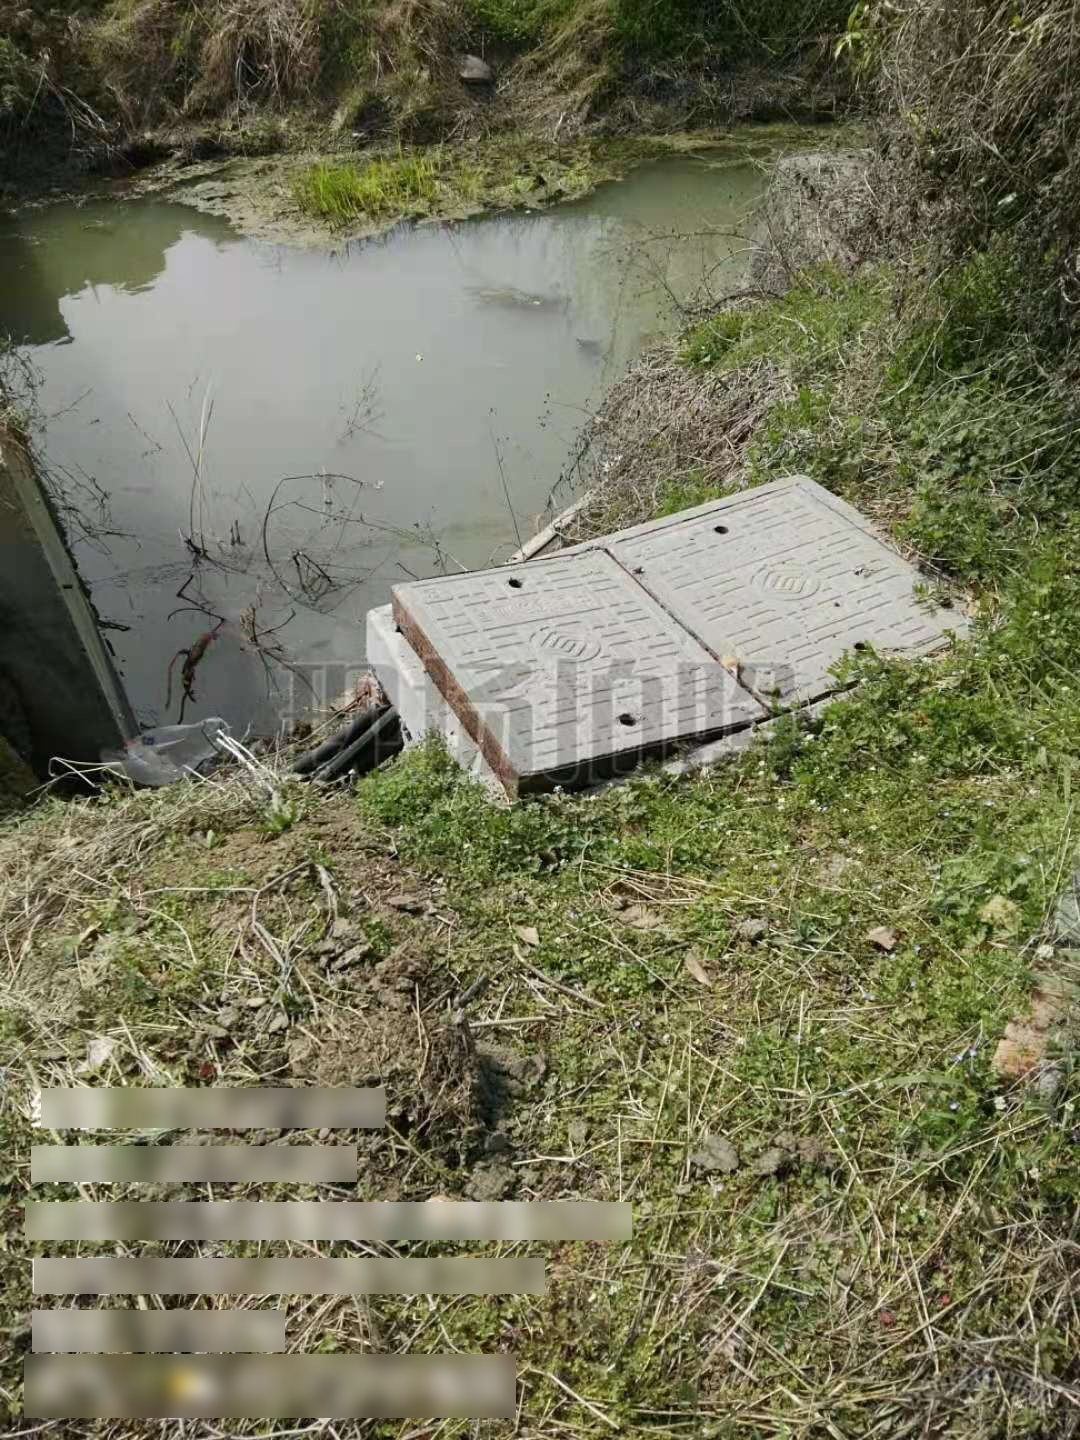uncovered: (363, 471, 989, 802)
